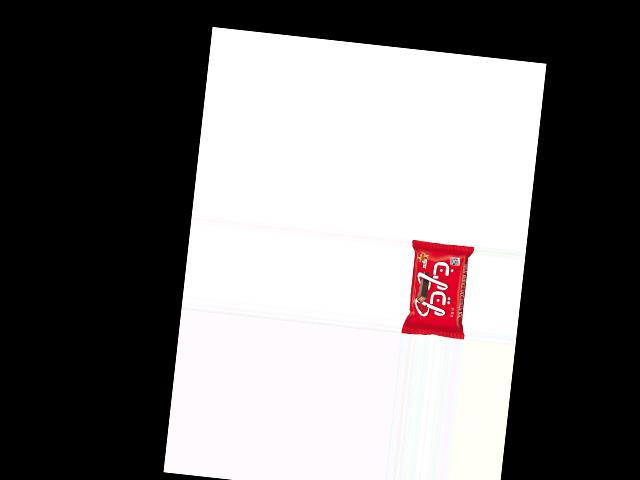chocolate: (402, 240, 475, 339)
